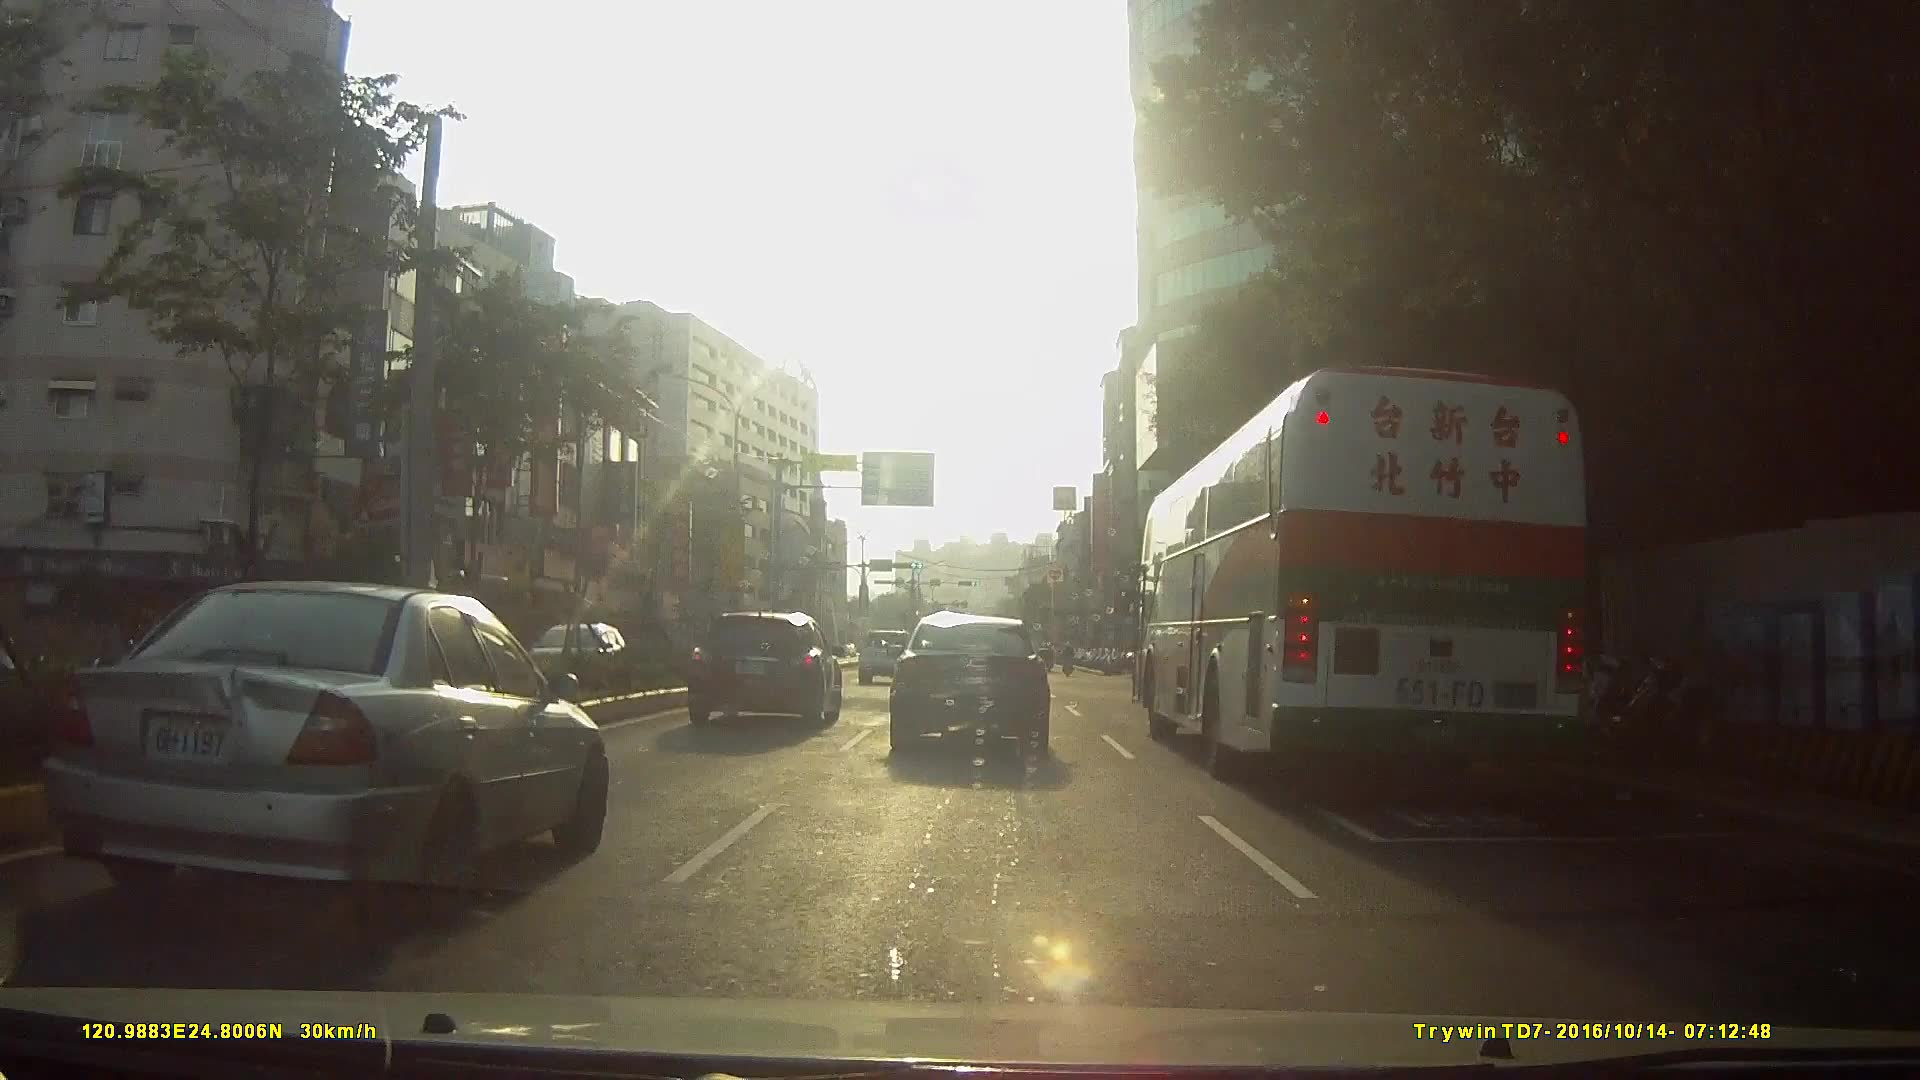vehicle: (1126, 320, 1658, 794), (37, 574, 611, 927), (886, 607, 1052, 753), (686, 609, 843, 727), (857, 625, 915, 683)
